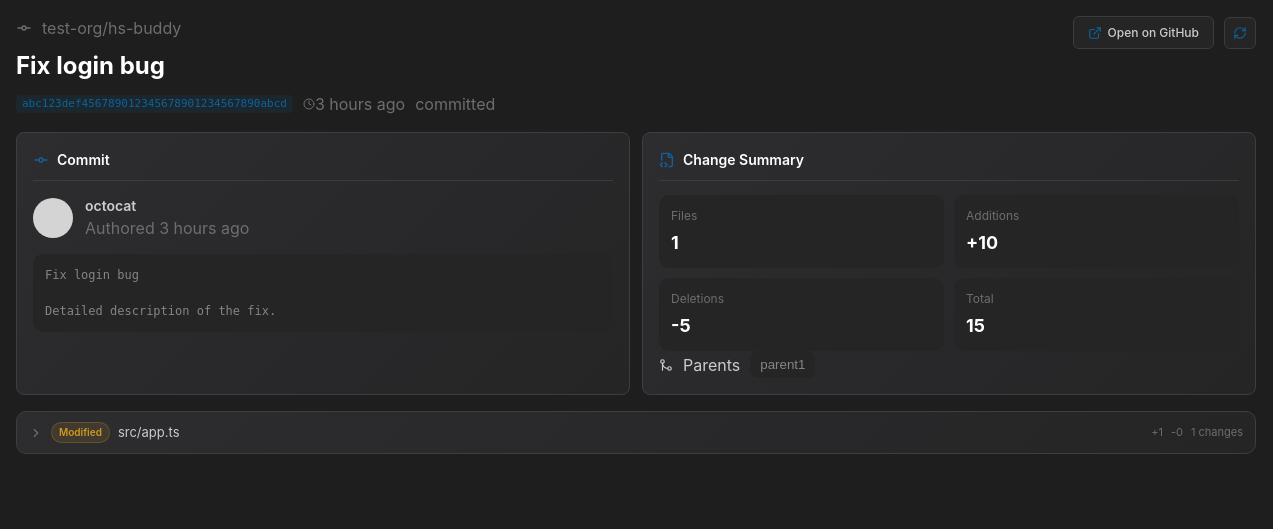
Scenario: RepoCommitDetailPanel › renders empty line in patch as a space
The image size is (1273, 529).
Expected: the text "src/app.ts" is shown, [118, 423, 180, 442]
Click the button "modified src/app.ts +1 -0 1 changes" at (80, 432), box [29, 422, 1243, 443]
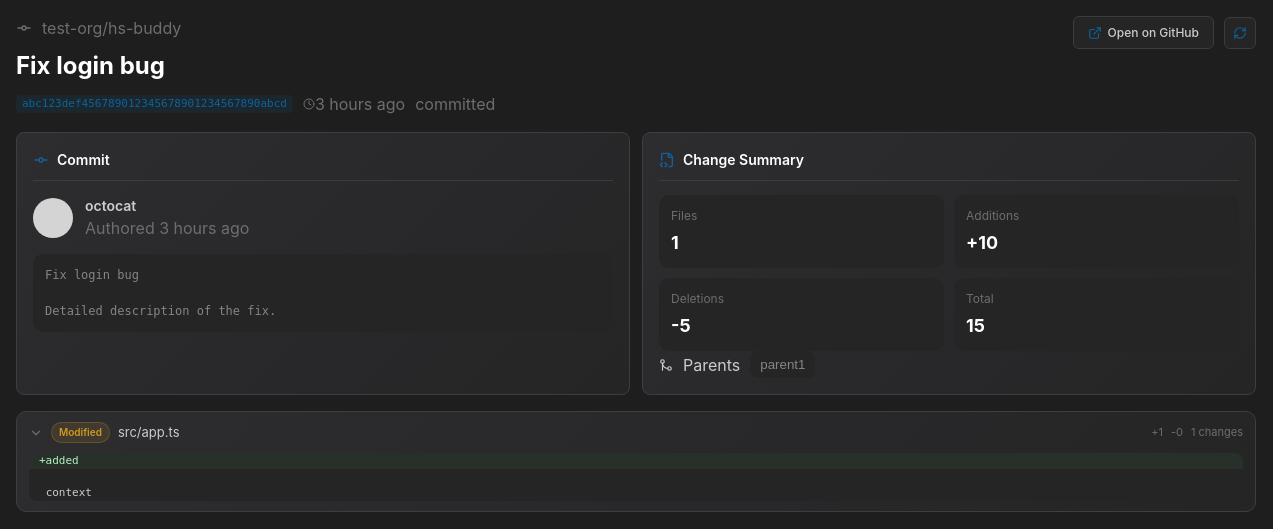
Expected: the element with class "repo-commit-diff" is shown, [29, 453, 1243, 501]
